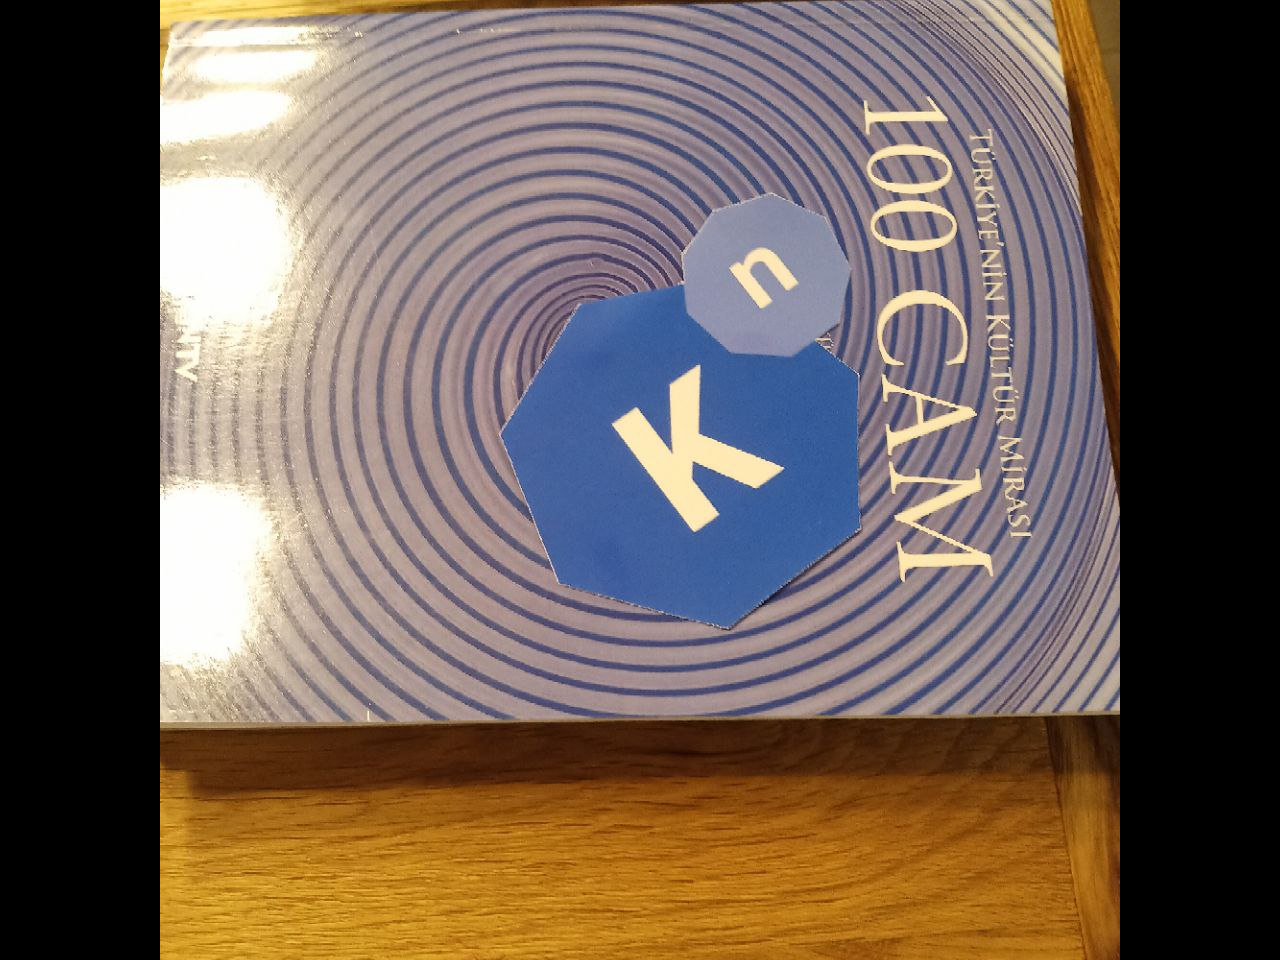knative: (500, 197, 863, 638)
